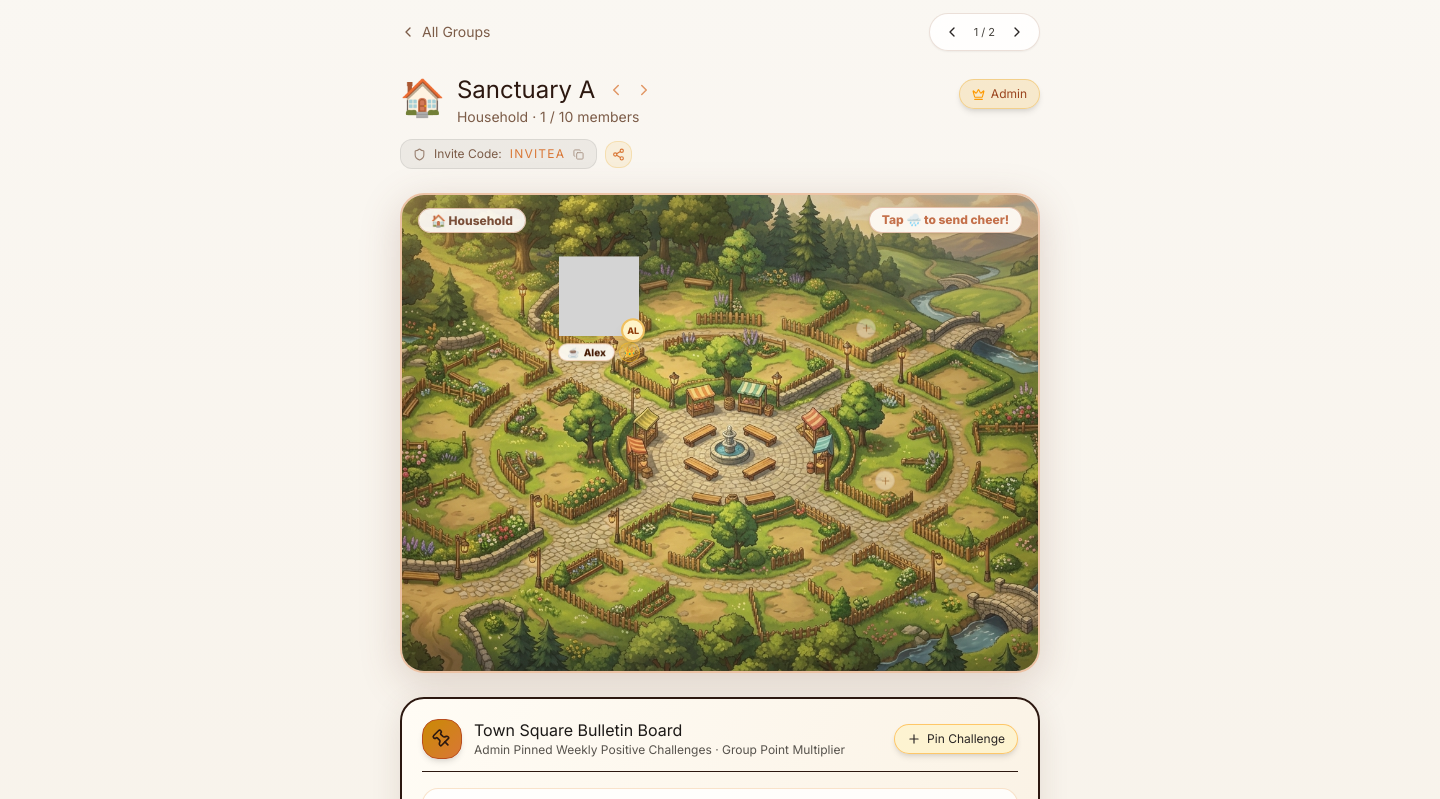
GroupDetailClient Carousel Member Query Invalidation › rotates to group B, invalidates member cache, reconciles URL, and avoids ghost members
Expected: the heading "Sanctuary A" is shown, [457, 75, 595, 105]
# Click next group chevron
Click the link named "Next group" at (1017, 32), box [1009, 24, 1025, 40]
(page scrolled)
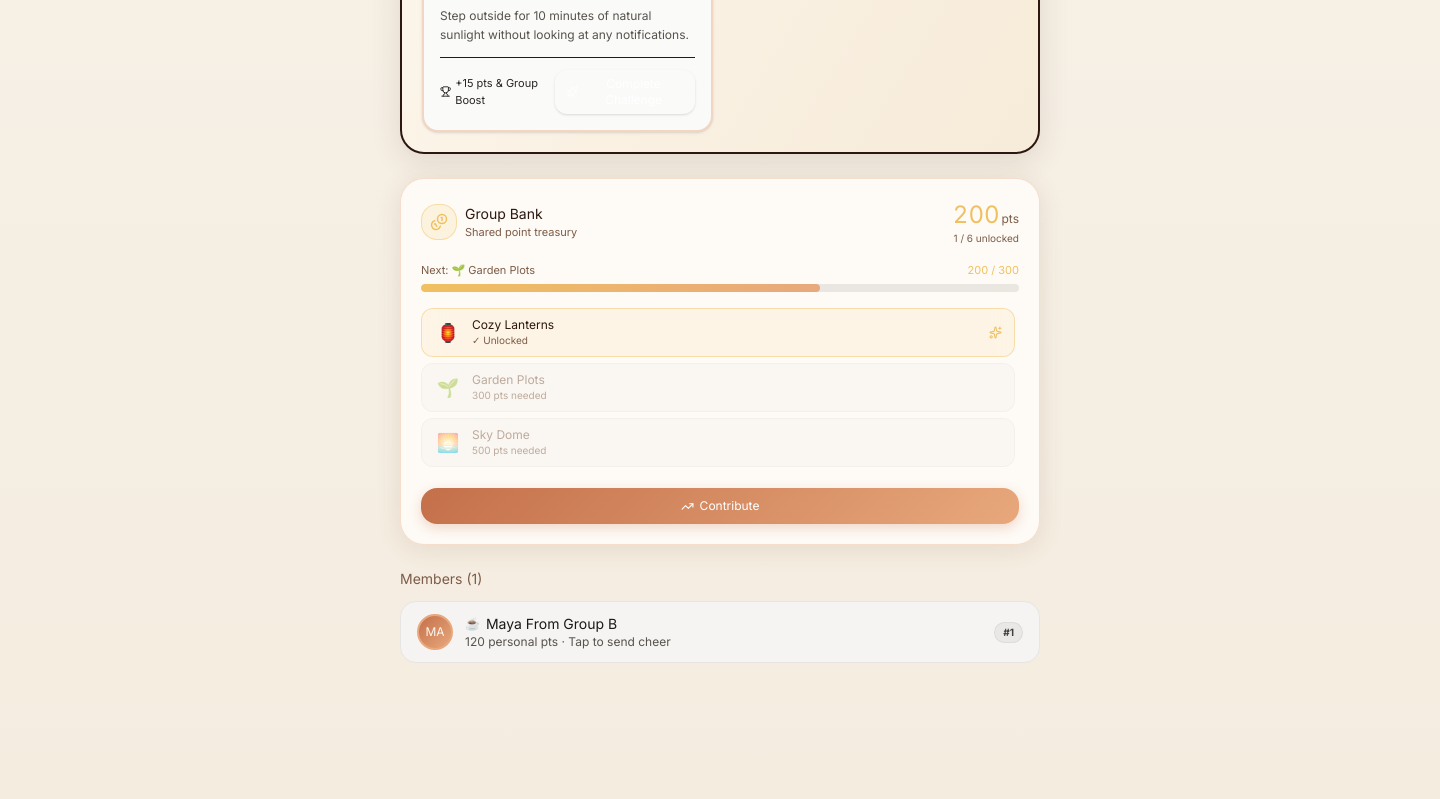
Expected: the text "Maya From Group B" is shown, [486, 614, 617, 634]
